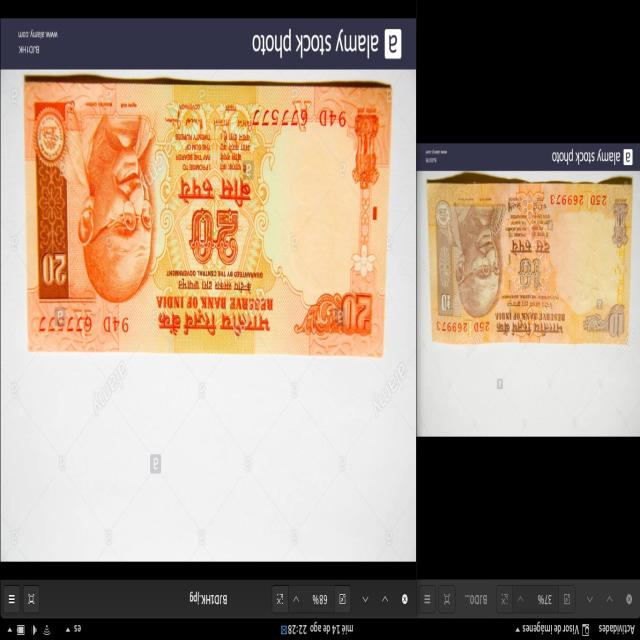20IndianRupees: (25, 91, 386, 351)
